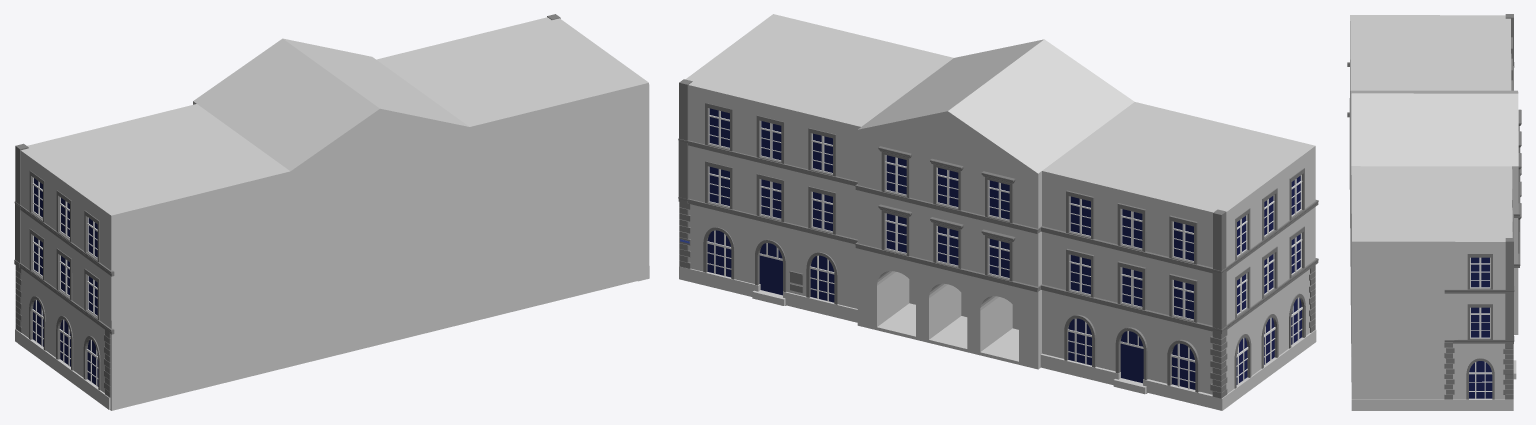
The model's file is Jugendherberge.fbx.
3 views of the same model, side by side, from view 1: azimuth 30°, elevation 25°; view 2: azimuth 150°, elevation 25°; view 3: azimuth 270°, elevation 25° (orthographic). The views are drawn at different scales.
Visible parts, largest first — view 1: Cube.9032, Cube.9022, Cube.9024, Cube.9031; view 2: Cube.9032, Cube.9022, Cube.9015, Cube.9024, Cube.9031, Cube.9026, Cube.9020, Cube.9021, Cube.8967, Cube.8969, Cube.9018, Cube.9019 (+30 smaller); view 3: Cube.9032, Cube.9015, Cube.9024, Cube.9026, Cube.8977, Cube.8971, Cube.8974, Cube.8972, Cube.8975, Cube.9025, Cube.9009, Cube.8973 (+3 smaller).
Boxes of the visible parts, bbox=[...] form: Cube.9032: bbox=[20, 17, 649, 410]; Cube.9022: bbox=[15, 329, 110, 409]; Cube.9024: bbox=[15, 265, 110, 397]; Cube.9031: bbox=[14, 143, 28, 263]; Cube.9032: bbox=[685, 14, 1315, 408]; Cube.9022: bbox=[1040, 329, 1316, 410]; Cube.9015: bbox=[679, 266, 857, 322]; Cube.9024: bbox=[678, 197, 1315, 398]; Cube.9031: bbox=[1212, 209, 1226, 329]; Cube.9026: bbox=[678, 79, 692, 198]; Cube.9020: bbox=[855, 242, 1040, 292]; Cube.9021: bbox=[855, 184, 1042, 233]; Cube.8967: bbox=[759, 243, 782, 295]; Cube.8969: bbox=[1120, 331, 1143, 383]; Cube.9018: bbox=[1040, 284, 1212, 331]; Cube.9019: bbox=[1041, 226, 1212, 273]; Cube.9032: bbox=[1349, 15, 1518, 399]; Cube.9015: bbox=[1351, 360, 1516, 410]; Cube.9024: bbox=[1444, 336, 1514, 399]; Cube.9026: bbox=[1505, 238, 1514, 339]; Cube.8977: bbox=[1469, 361, 1492, 398]; Cube.8971: bbox=[1471, 257, 1489, 287]; Cube.8974: bbox=[1471, 307, 1489, 337]; Cube.8972: bbox=[1467, 254, 1492, 289]; Cube.8975: bbox=[1467, 304, 1492, 339]; Cube.9025: bbox=[1444, 289, 1505, 293]; Cube.9009: bbox=[1466, 358, 1494, 399]; Cube.8973: bbox=[1470, 257, 1490, 288].
Bounding box in the file's own units: 4092 × 1710 × 1320.
